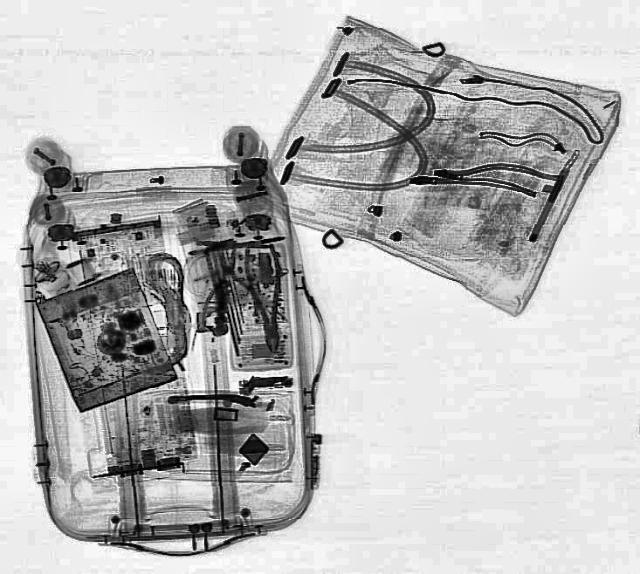Pliers: (192, 242, 262, 328), (240, 243, 292, 355)
